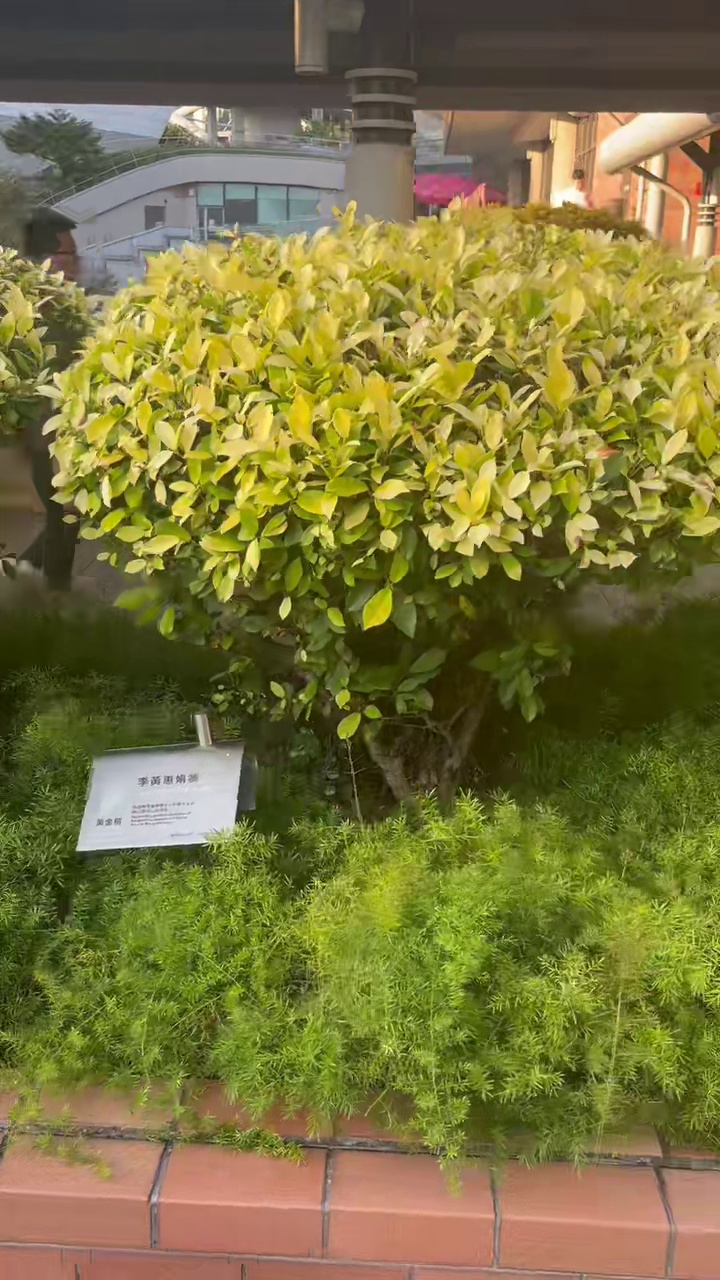Golden-leaves Fig: (49, 207, 719, 745)
